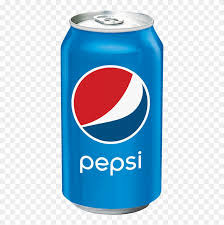pepsi: (62, 10, 162, 213)
